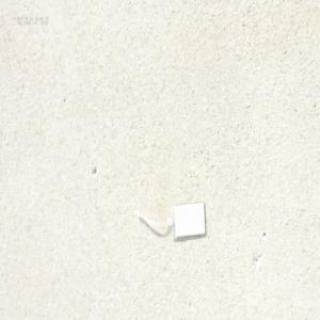LuggageTagtrack_idkeyframe: (128, 195, 204, 239)
